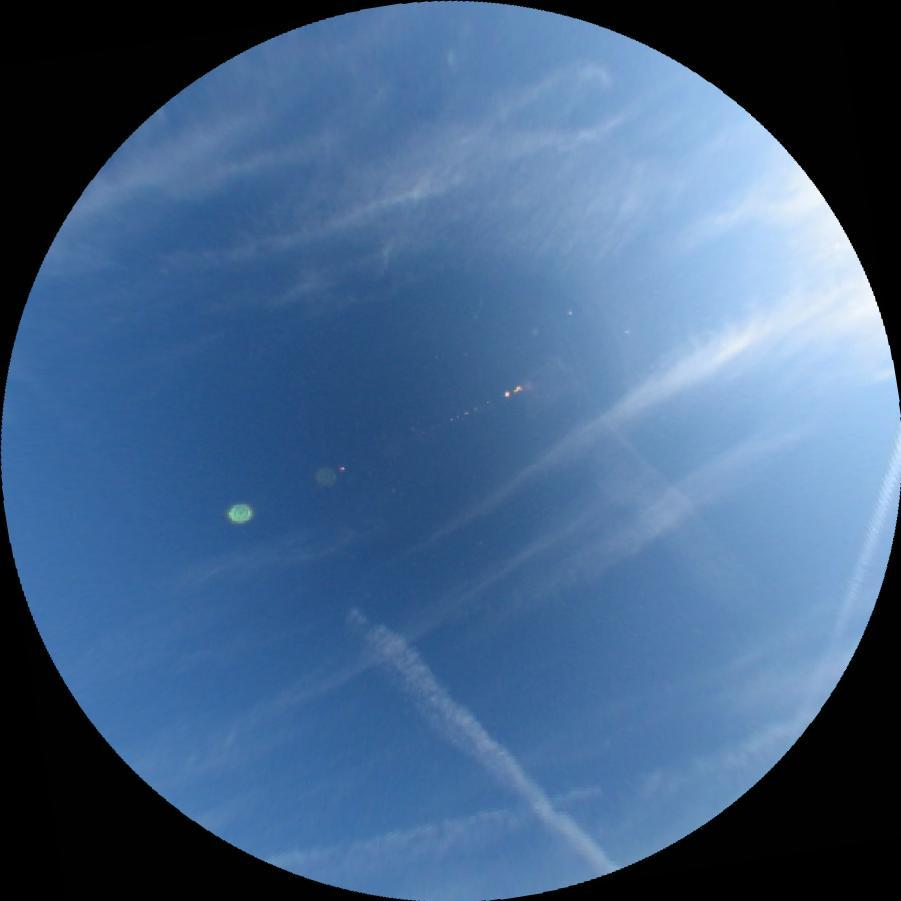contrail veryold: (339, 597, 618, 890), (514, 355, 769, 616)
unknow: (267, 710, 831, 901)
